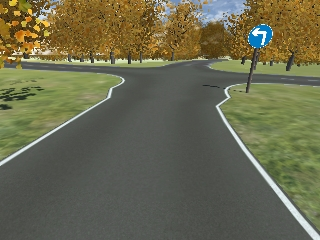left: (246, 25, 271, 46)
